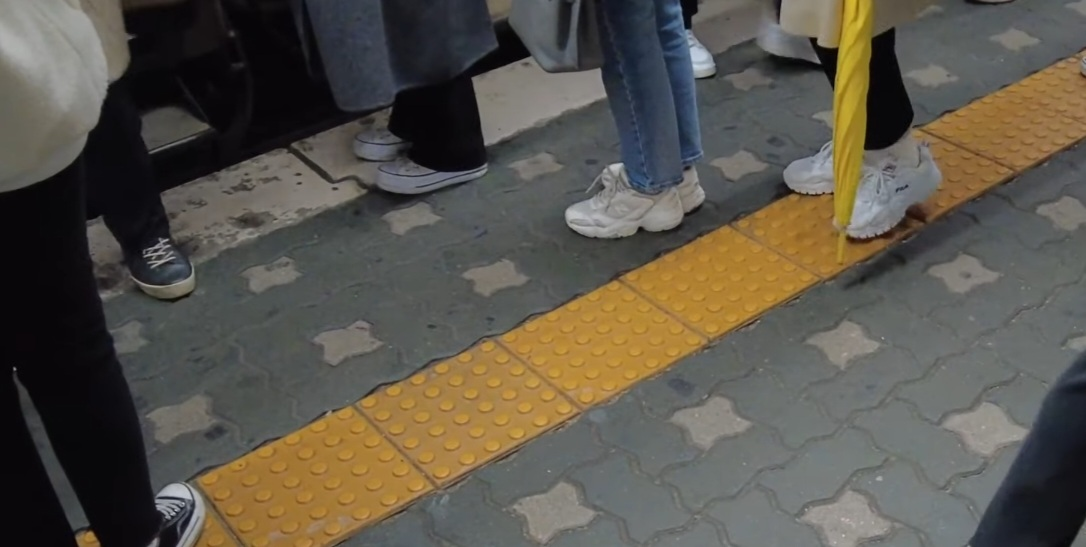warningBlock: (211, 439, 452, 542), (379, 347, 582, 454), (642, 212, 778, 340), (539, 285, 682, 400), (774, 185, 905, 279), (955, 98, 1072, 173)
